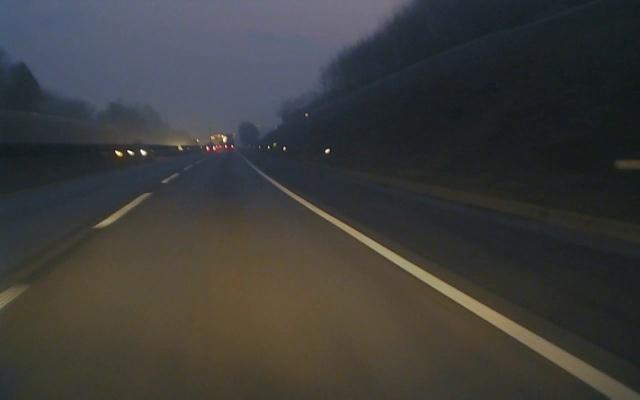lane: (268, 181, 640, 400), (0, 172, 178, 312)
